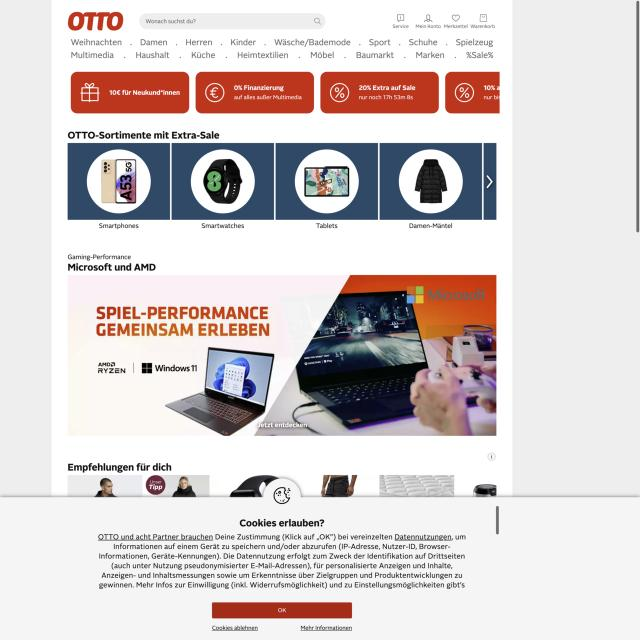input: (138, 12, 326, 29)
logo: (64, 8, 127, 36)
navigation: (68, 37, 497, 64)
